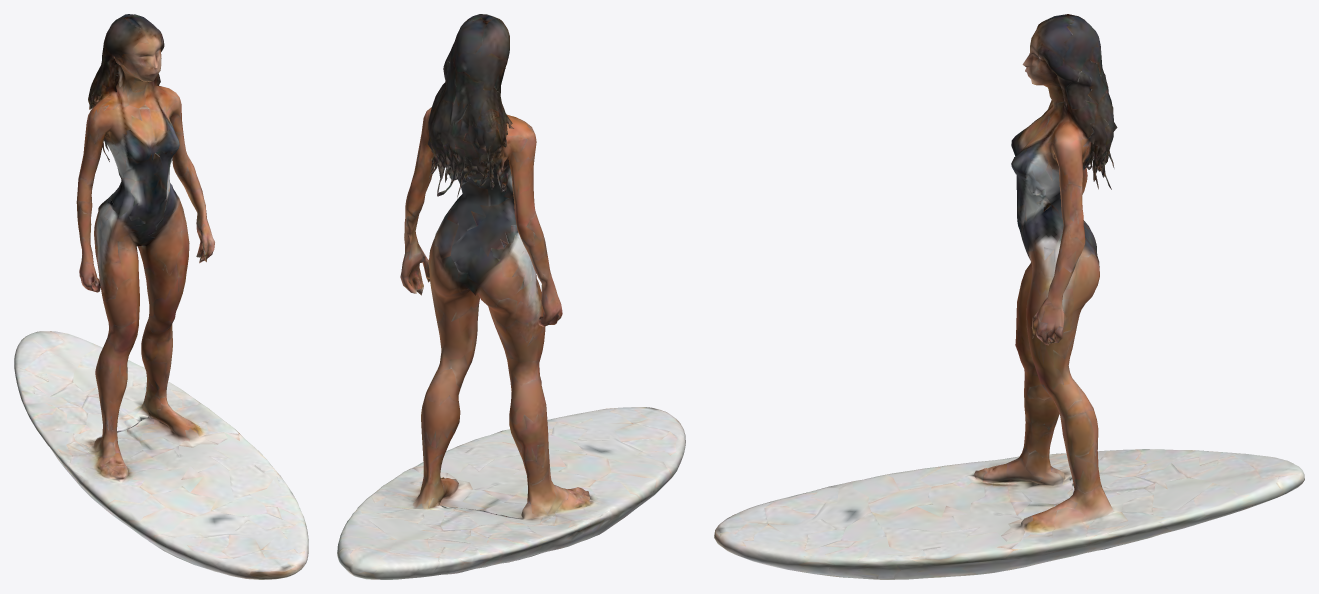
Rendered from kit_izmir_surfer_b.glb.
3 views of the same model, side by side, from view 1: azimuth 30°, elevation 25°; view 2: azimuth 150°, elevation 25°; view 3: azimuth 270°, elevation 25° (orthographic). The views are drawn at different scales.
Parts seen in each view (by area): view 1: Mesh_0; view 2: Mesh_0; view 3: Mesh_0.
Boxes of the visible parts, x1,y1,x2,y2 form: Mesh_0: (14, 14, 308, 579); Mesh_0: (337, 14, 685, 579); Mesh_0: (714, 14, 1304, 579).
Bounding box in the file's own units: 0.6596 × 1.75 × 1.75.
Materials: 1 (1 with a texture image).
